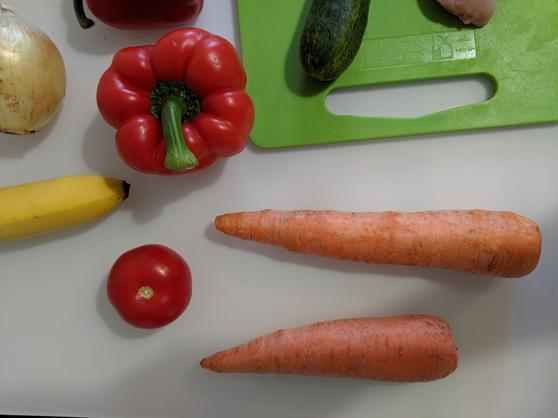banana: (1, 176, 131, 241)
carrot: (214, 209, 540, 283), (200, 311, 460, 386)
cucumber: (299, 1, 374, 81)
onion: (1, 8, 68, 136)
pepper: (95, 25, 256, 176)
tomato: (106, 244, 192, 329)
